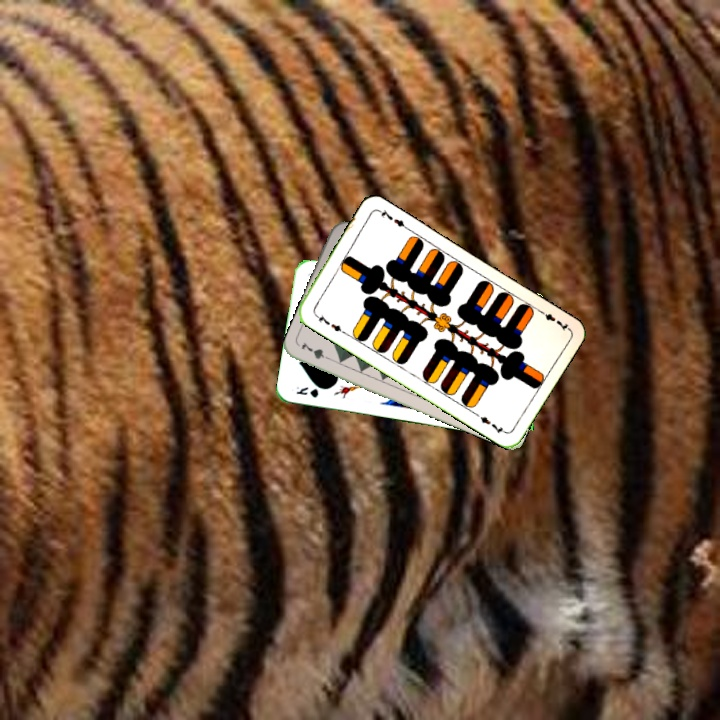E7: (534, 306, 571, 333), (311, 309, 347, 336)
G7: (297, 338, 336, 364)
GK: (292, 382, 321, 400)
